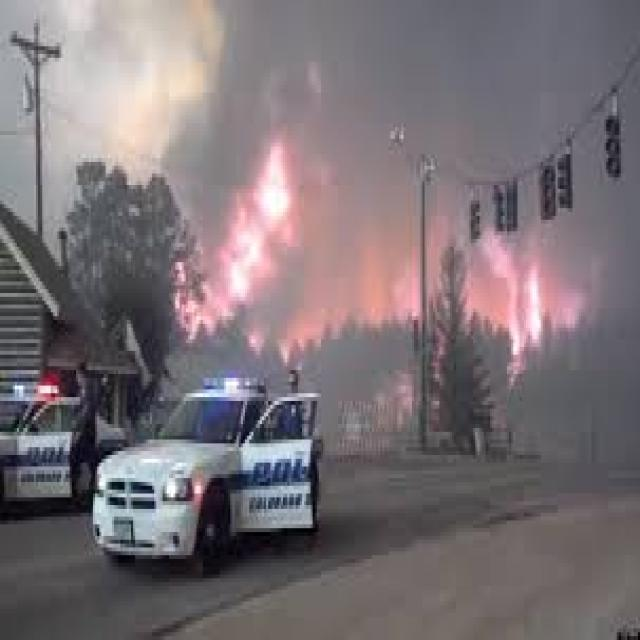Fire: (179, 156, 292, 336), (494, 250, 546, 362)
Smoke: (161, 0, 640, 342)
